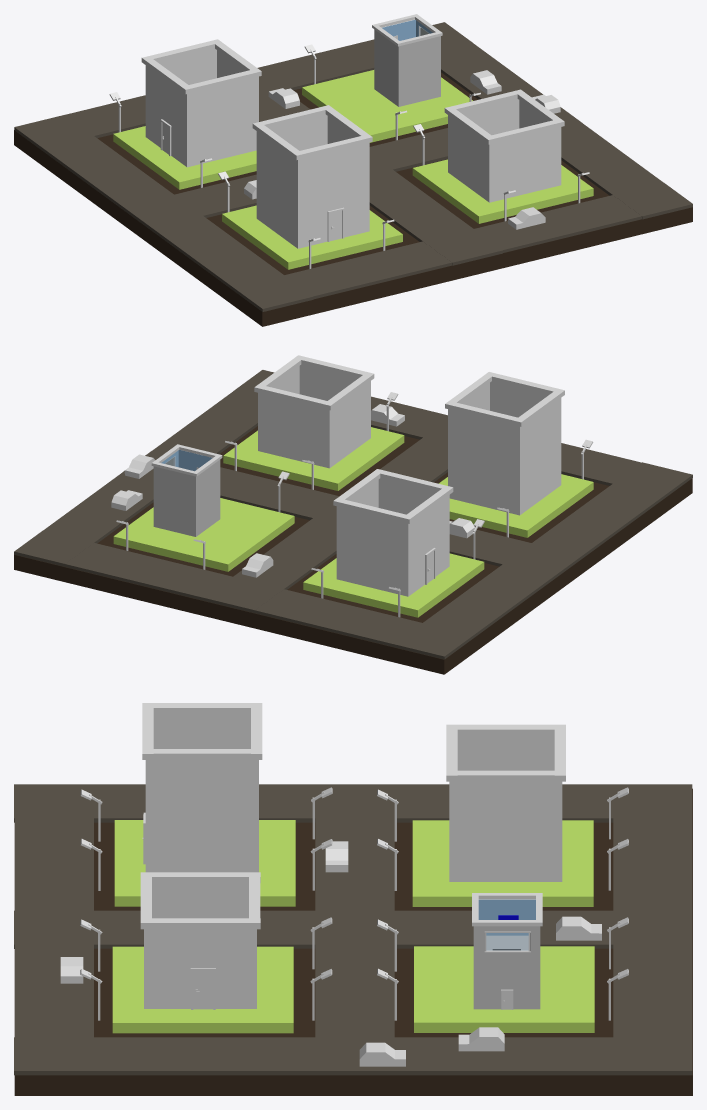
File: CityScape2.gltf
The picture shows the model from 3 angles, top to bottom: view 1: azimuth 30°, elevation 25°; view 2: azimuth 150°, elevation 25°; view 3: azimuth 270°, elevation 25°; orthographic projection. The views are drawn at different scales.
Visible parts, largest first — view 1: Ground, Road Horizontal Top, Building.003, Building 004, Road Horizontal Bottom, Road Vertical Left, Building.002, Road Horizontal Middle, Grass.001, Road Vertical Right, Grass.003, Grass.002 (+16 smaller); view 2: Ground, Road Horizontal Top, Building.003, Building 004, Road Horizontal Bottom, Road Vertical Right, Building.002, Road Horizontal Middle, Grass.001, Road Vertical Middle, Grass.002, Building.001 (+19 smaller); view 3: Ground, Road Horizontal Bottom, Road Horizontal Middle, Building.003, Road Horizontal Top, Road Vertical Right, Building 004, Road Vertical Left, Road Vertical Middle, Building.002, Grass.001, Grass.002 (+22 smaller).
Part boxes in pixels (x1,y1,x2,y2): Ground: (14,72,692,326); Road Horizontal Top: (14,115,313,311); Building.003: (256,114,369,248); Building 004: (145,48,258,167); Road Horizontal Bottom: (420,22,692,219); Road Vertical Left: (284,184,688,298); Building.002: (448,99,561,202); Road Horizontal Middle: (259,74,502,265); Grass.001: (302,70,472,142); Road Vertical Right: (65,22,472,138); Grass.003: (222,205,402,269); Grass.002: (412,159,593,223); Ground: (14,426,692,674); Road Horizontal Top: (393,462,692,659); Building.003: (448,381,561,515); Building 004: (336,478,449,596); Road Horizontal Bottom: (14,370,274,566); Road Vertical Right: (14,533,421,646); Building.002: (258,364,370,468); Road Horizontal Middle: (204,419,447,613); Grass.001: (113,498,294,571); Road Vertical Middle: (145,451,531,566); Grass.002: (223,427,404,490); Building.001: (153,459,220,536); Ground: (14,788,692,1095); Road Horizontal Bottom: (14,1037,692,1075); Road Horizontal Middle: (14,910,692,948); Building.003: (145,714,258,872); Road Horizontal Top: (14,784,692,822); Road Vertical Right: (613,818,692,1075); Building 004: (449,735,562,881); Road Vertical Left: (15,818,93,1075); Road Vertical Middle: (315,818,394,1075); Building.002: (144,883,256,1008); Grass.001: (414,946,594,1032); Grass.002: (112,946,293,1033).
Size of the model in its own units: 60.02 by 15.61 by 60.05.
